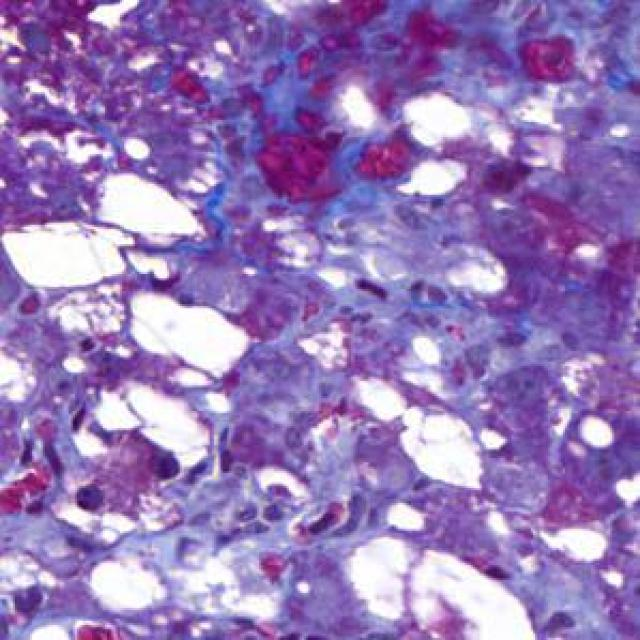ballooning: (8, 164, 205, 300), (69, 379, 214, 507), (394, 396, 492, 499)
